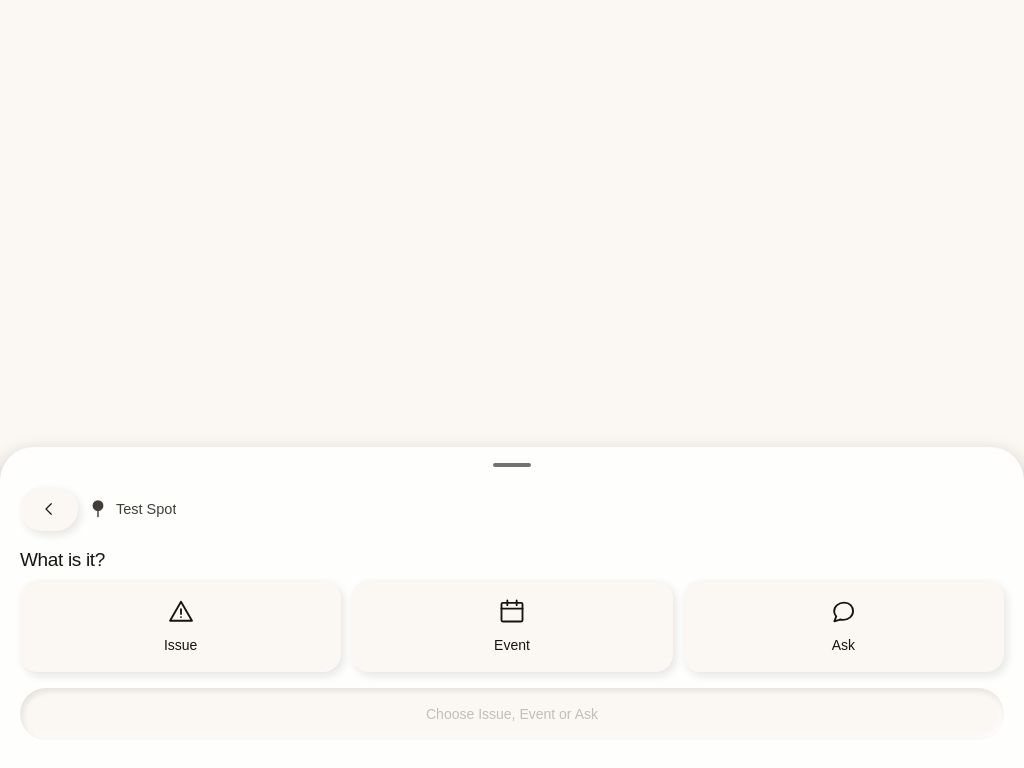
Scenario: details › Post is disabled and says why until the title has 3 characters
This screenshot has width=1024, height=768.
Expected: the button "Choose Issue, Event or Ask" is disabled, [20,688,1004,740]
Expected: the button "Choose Issue, Event or Ask" is shown, [20,688,1004,740]
Click the radio button labelled "Issue".
click(181, 626)  # box [20,580,341,672]
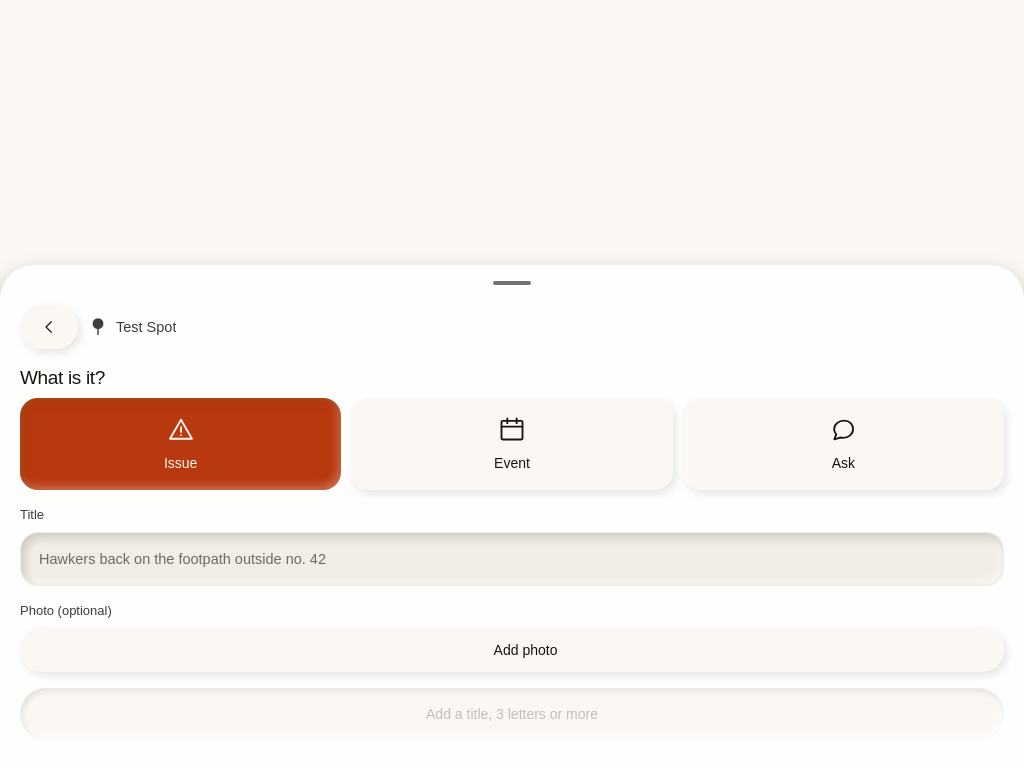
Expected: the button "Add a title, 3 letters or more" is disabled, [20,688,1004,740]
Type "ab" into the field labelled "Title".
click(512, 559); type("ab")  # box [20,532,1004,586]
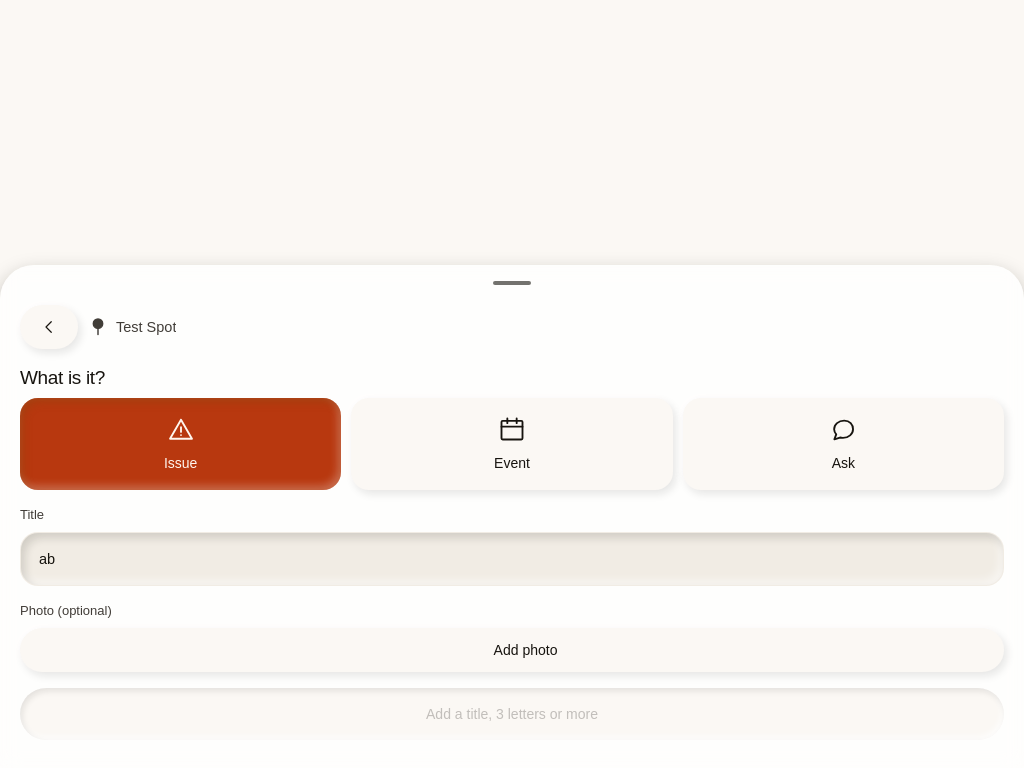
Expected: the button "Add a title, 3 letters or more" is disabled, [20,688,1004,740]
Replace the text in the field labelled "Title" with "abc" at (512, 559), box [20,532,1004,586]
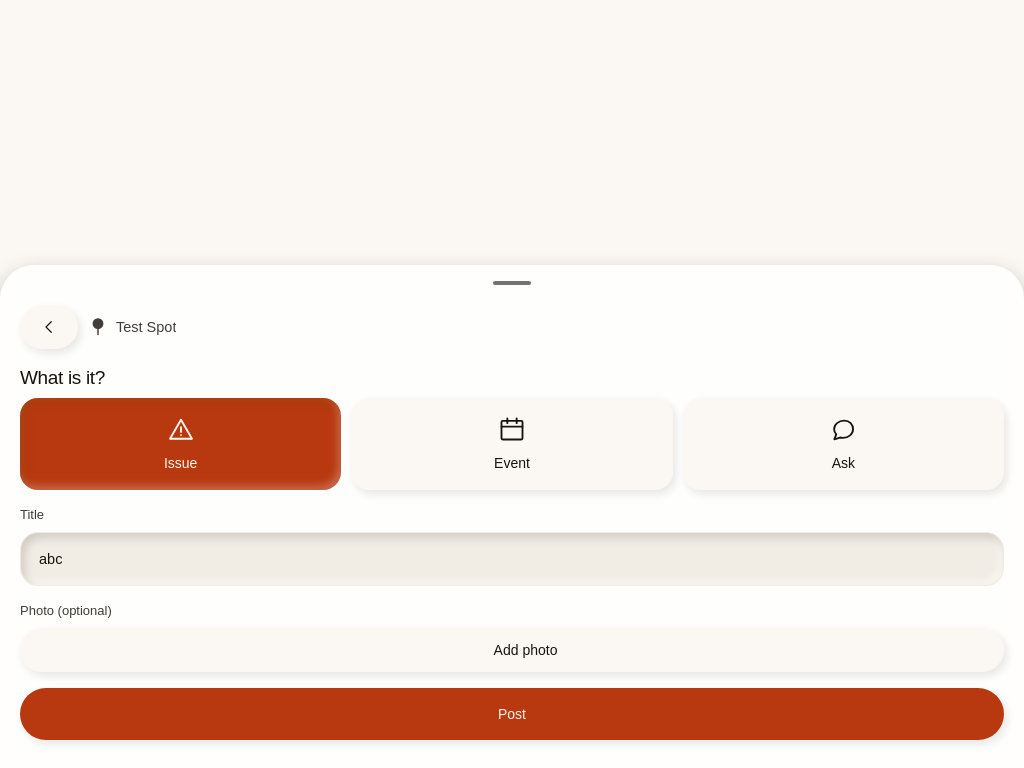
Expected: the button "Post" is enabled, [20,688,1004,740]
Expected: the button "Post" is shown, [20,688,1004,740]
